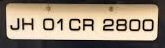numberplate: (5, 2, 159, 41)
